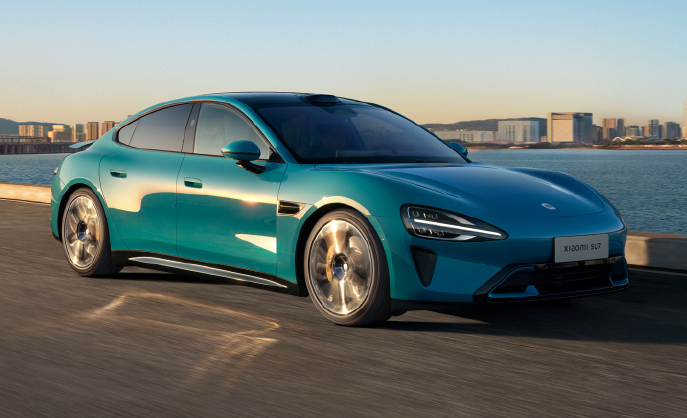su7: (45, 87, 636, 320)
